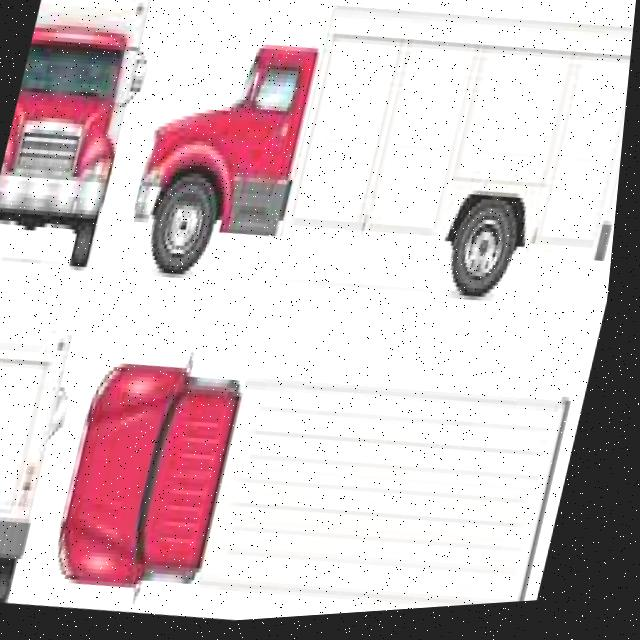truck: (120, 0, 640, 339), (56, 337, 586, 635), (0, 0, 154, 275), (0, 313, 84, 608)
